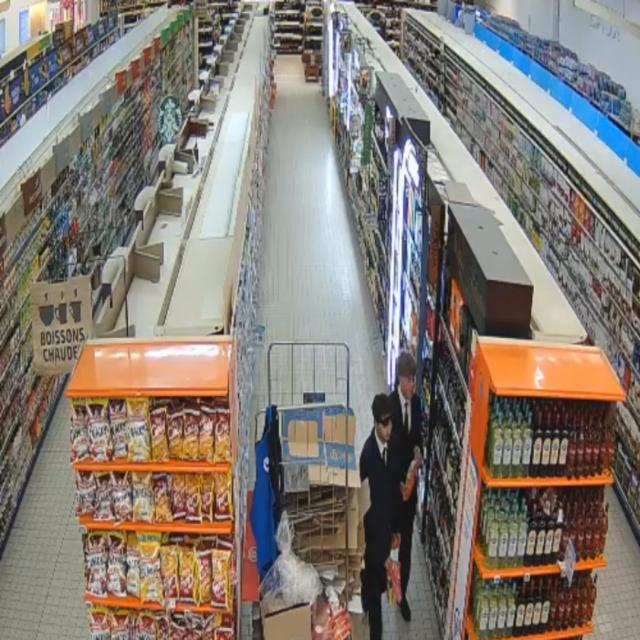article: (403, 454, 419, 500), (390, 559, 401, 603), (389, 533, 401, 562), (387, 573, 396, 608)
hands: (415, 452, 423, 466)
person: (360, 395, 401, 639), (400, 483, 417, 621)
